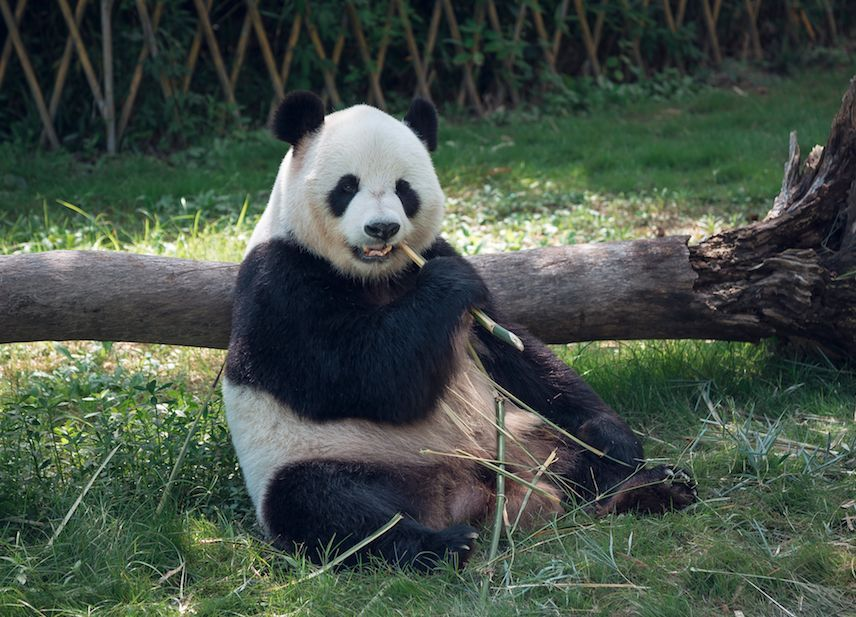panda: (189, 82, 708, 572)
